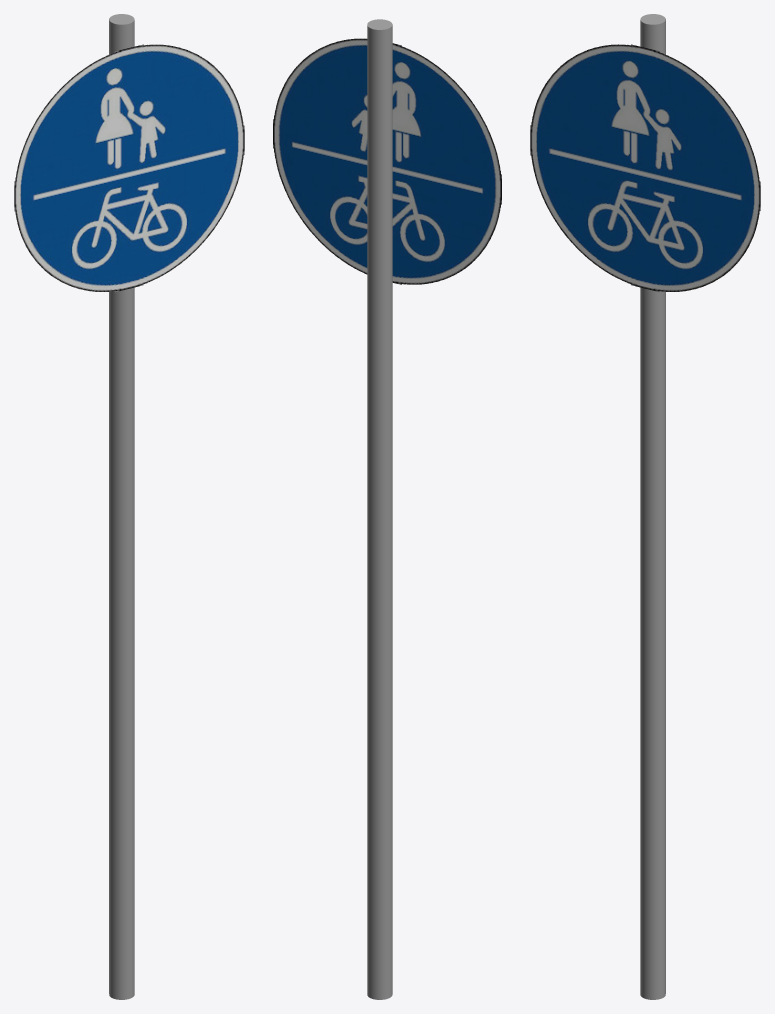
Rendered from FZ_Zonesign.fbx.
3 renders of one model, left to right at view 1: azimuth 30°, elevation 25°; view 2: azimuth 150°, elevation 25°; view 3: azimuth 330°, elevation 25°, orthographic.
Parts seen in each view (by area): view 1: pPlane1, pCylinder1; view 2: pPlane1, pCylinder1; view 3: pPlane1, pCylinder1.
Part boxes in pixels (x1,y1,x2,y2): pPlane1: (14, 44, 244, 292); pCylinder1: (109, 14, 134, 999); pPlane1: (273, 38, 501, 284); pCylinder1: (367, 19, 392, 999); pPlane1: (530, 44, 760, 291); pCylinder1: (640, 14, 665, 999).
Size of the model in its own units: 1 by 4.05 by 0.1055.
